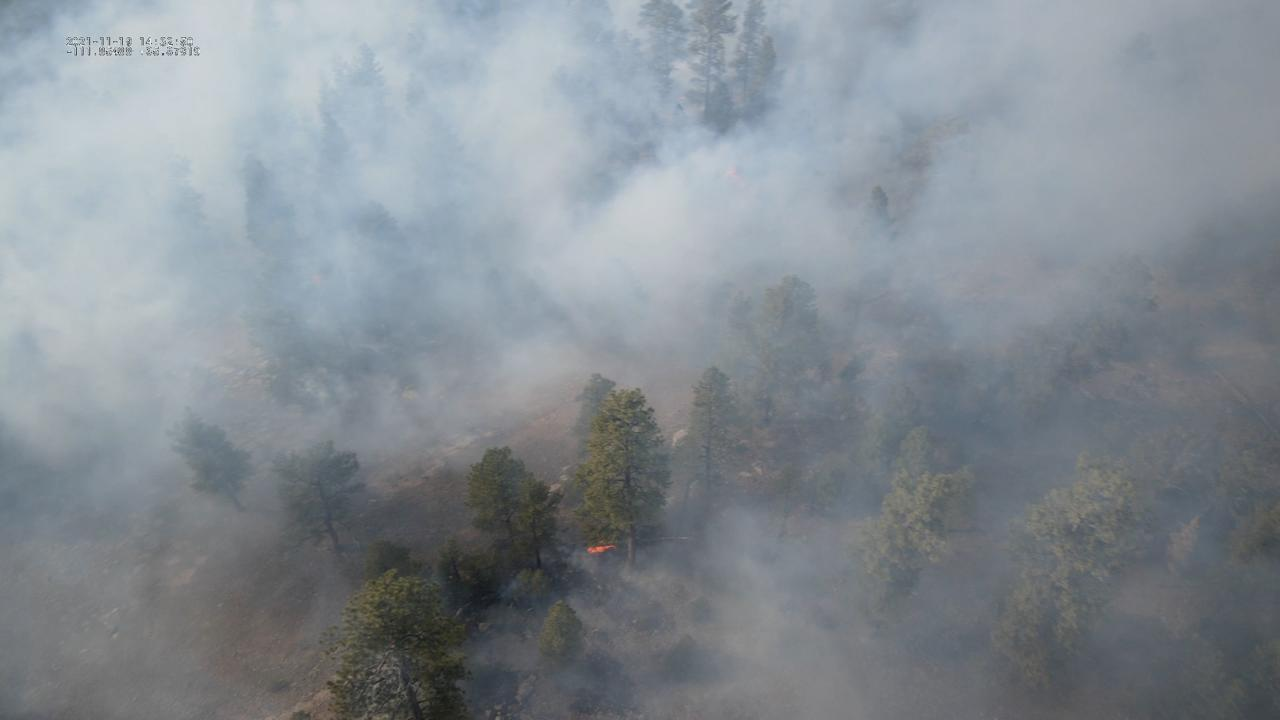fire: (585, 543, 617, 555)
smoke: (0, 0, 1280, 720)
